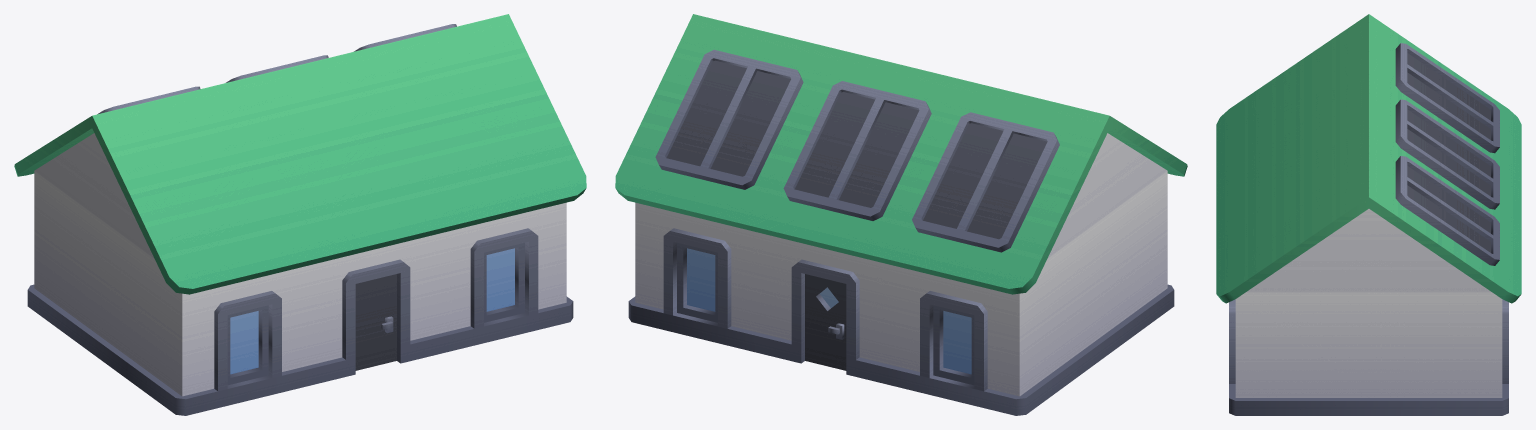
The model's file is building-type-h.draco.glb.
3 renders of one model, left to right at view 1: azimuth 30°, elevation 25°; view 2: azimuth 150°, elevation 25°; view 3: azimuth 270°, elevation 25°, orthographic. The views are drawn at different scales.
Visible parts, largest first — view 1: building-type-h; view 2: building-type-h; view 3: building-type-h.
Boxes of the visible parts, bbox=[...] form: building-type-h: bbox=[14, 14, 586, 415]; building-type-h: bbox=[615, 14, 1187, 415]; building-type-h: bbox=[1216, 14, 1521, 415].
Size of the model in its own units: 1.3 by 0.7375 by 0.916.
Materials: 1 (1 with a texture image).
